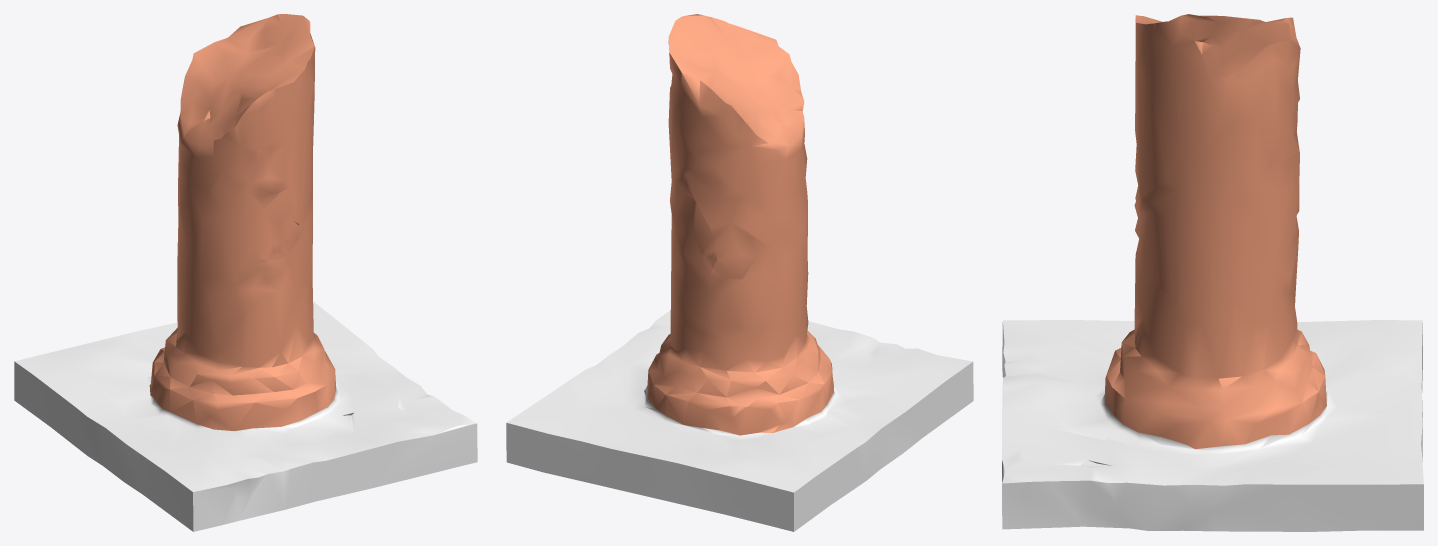
Rendered from Pillar2_fbx.fbx.
3 renders of one model, left to right at view 1: azimuth 30°, elevation 25°; view 2: azimuth 150°, elevation 25°; view 3: azimuth 270°, elevation 25°, orthographic. The views are drawn at different scales.
Parts seen in each view (by area): view 1: Pillar_2; view 2: Pillar_2; view 3: Pillar_2.
Part boxes in pixels (box(x1,y1,x2,y2)): Pillar_2: box(14, 14, 477, 531); Pillar_2: box(506, 14, 973, 531); Pillar_2: box(1002, 14, 1423, 531).
Size of the model in its own units: 2.75 by 3.69 by 2.99.
